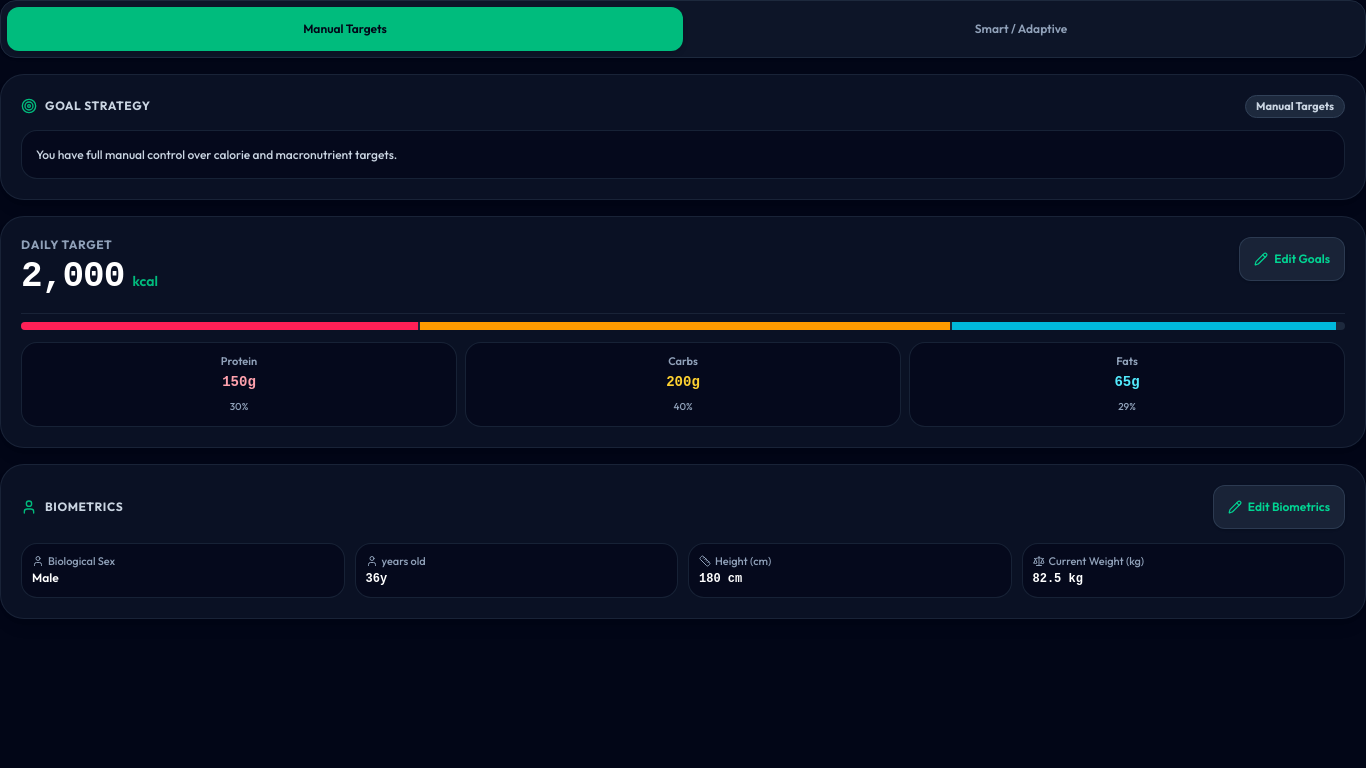
UserProfileGoalsScreen & Focused Modals Component Suite › 3. switches to Smart / Adaptive mode upon confirmation in confirm dialog
Click the button with test id "btn-target-mode-smart": (1021,29) [683,7,1359,51]
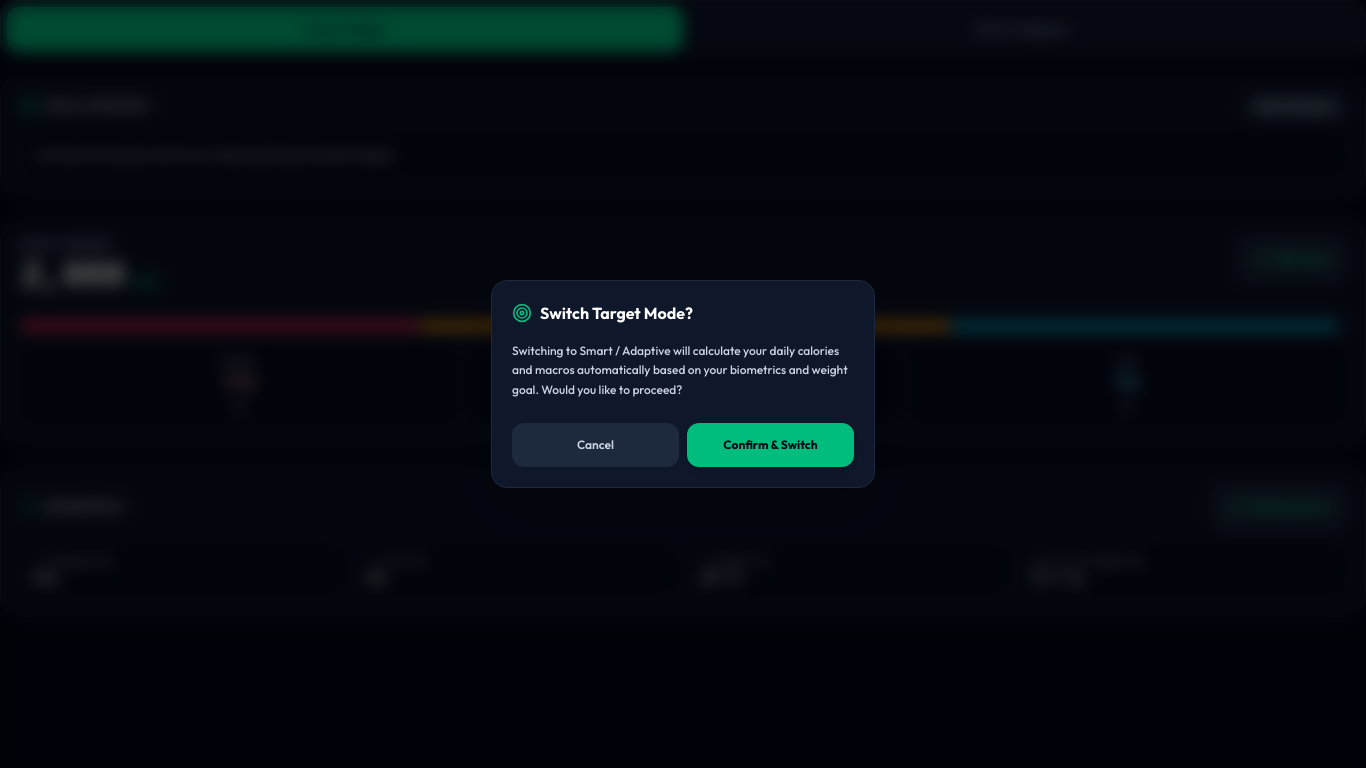
Click the button with test id "btn-confirm-mode-switch": (770,445) [687,423,854,467]
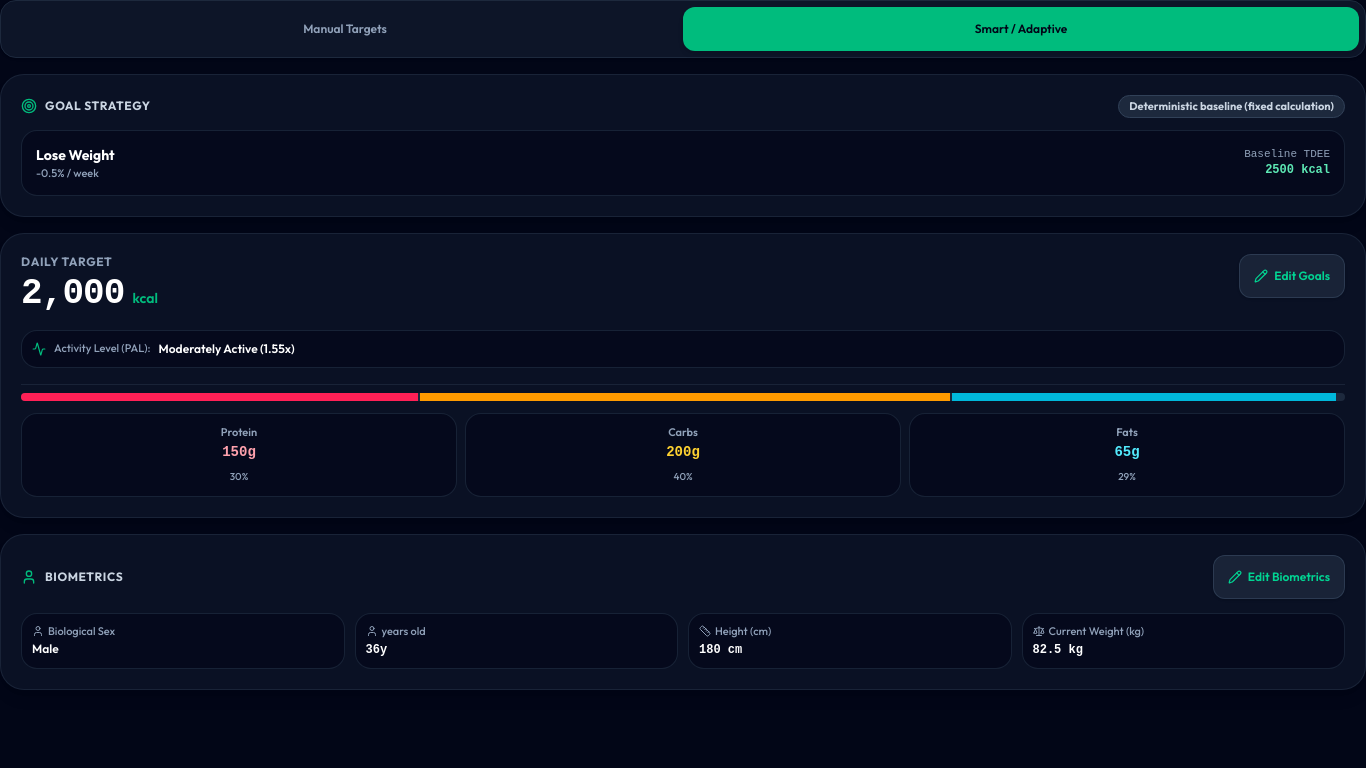
Expected: the dialog with test id "confirm-mode-switch-modal" is gone
